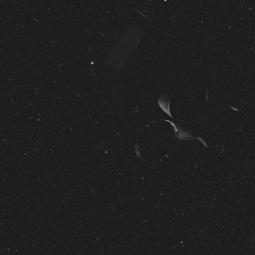cheops: (101, 6, 245, 164)
